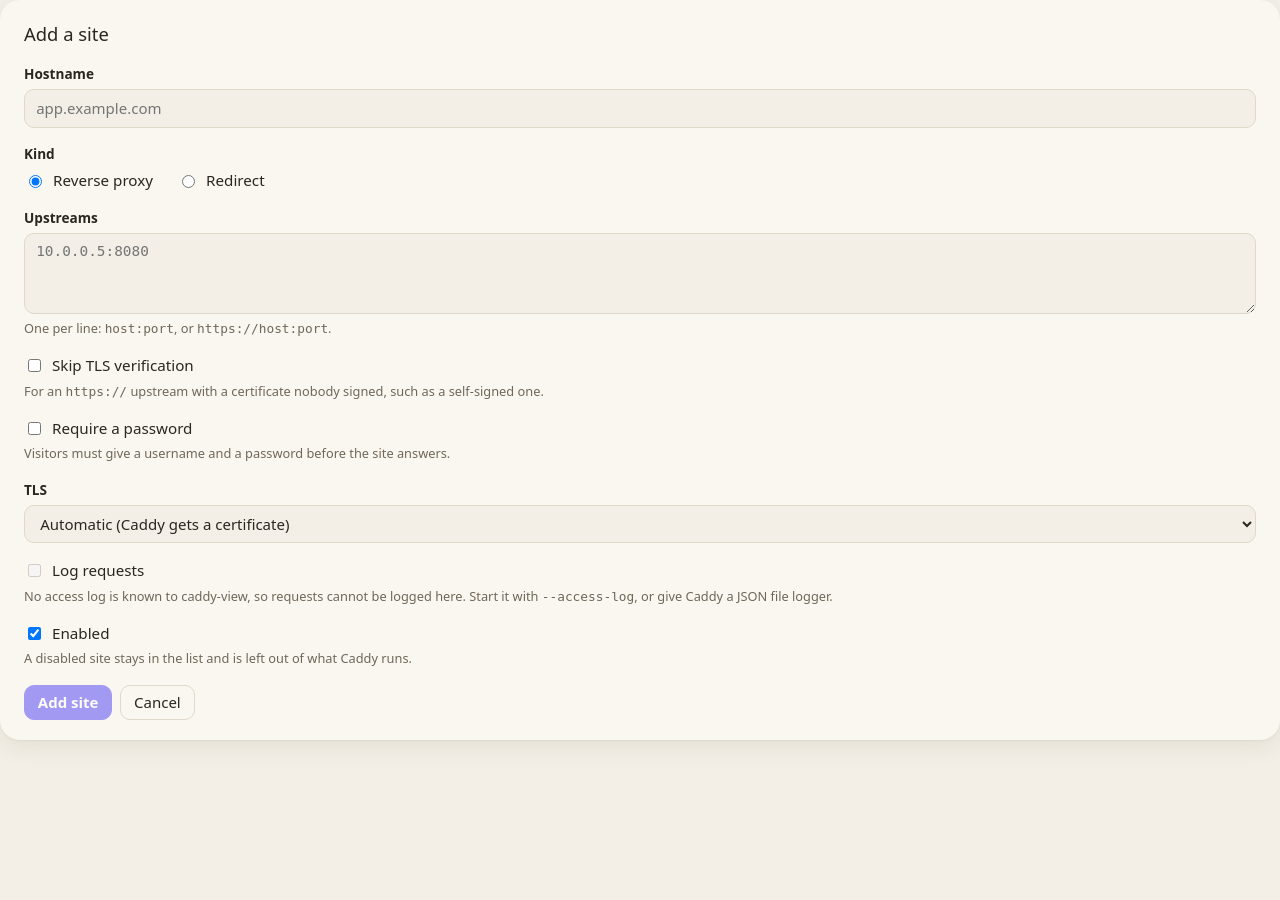
SiteWizard password protection › asks for a username and a password when the switch is on
The width and height of the screenshot is (1280, 900).
Click the checkbox labelled "Require a password" at (34, 428), box [28, 422, 41, 435]
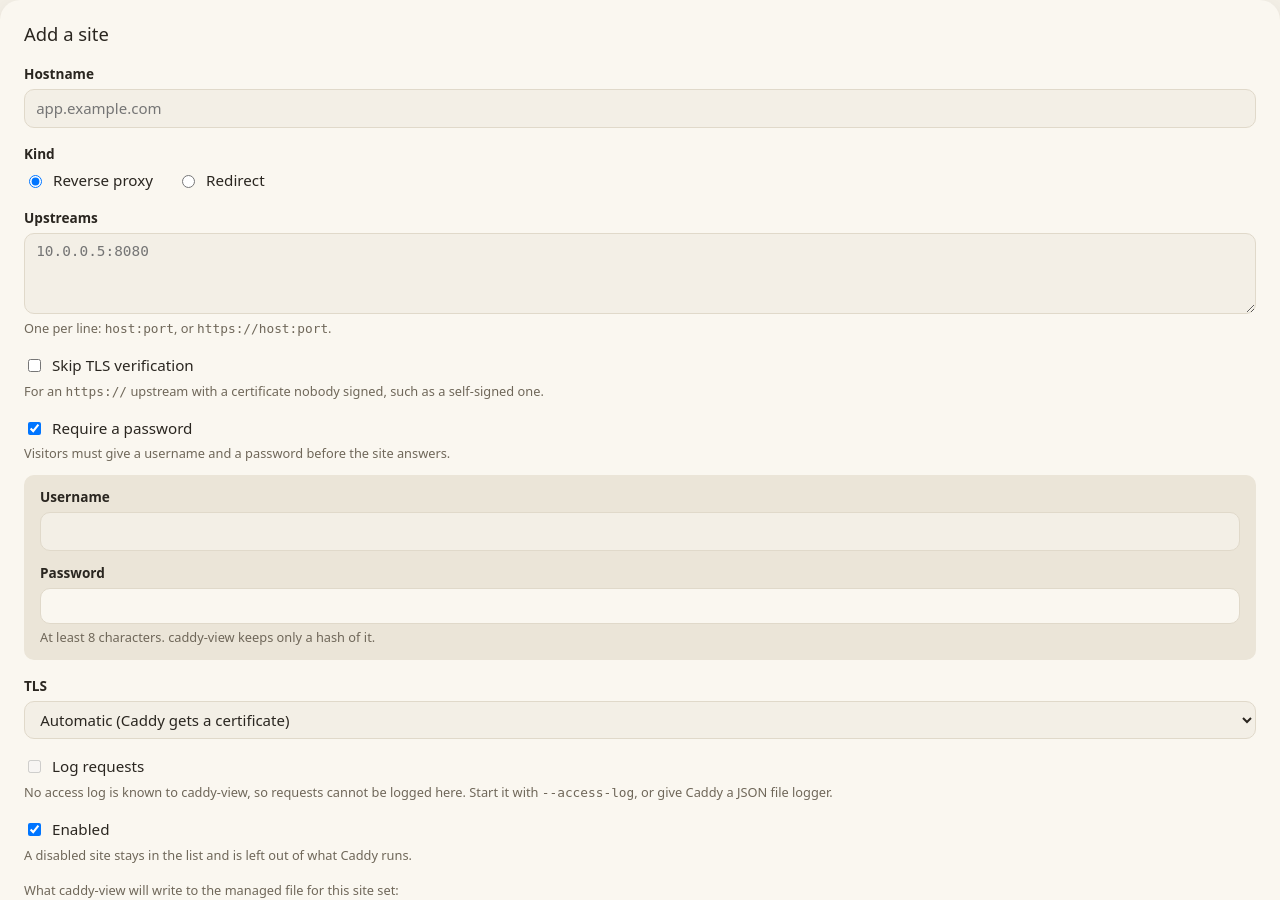
expect the field labelled "Username" is shown: met, box [40, 512, 1240, 551]
